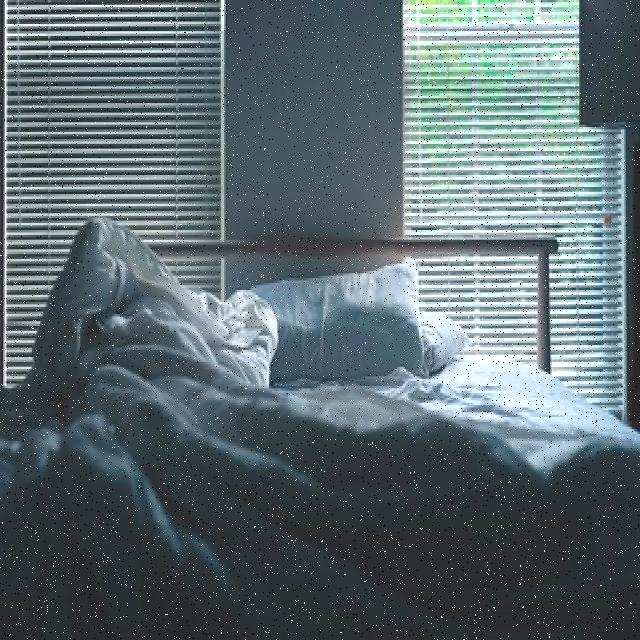bed: (9, 226, 584, 618)
